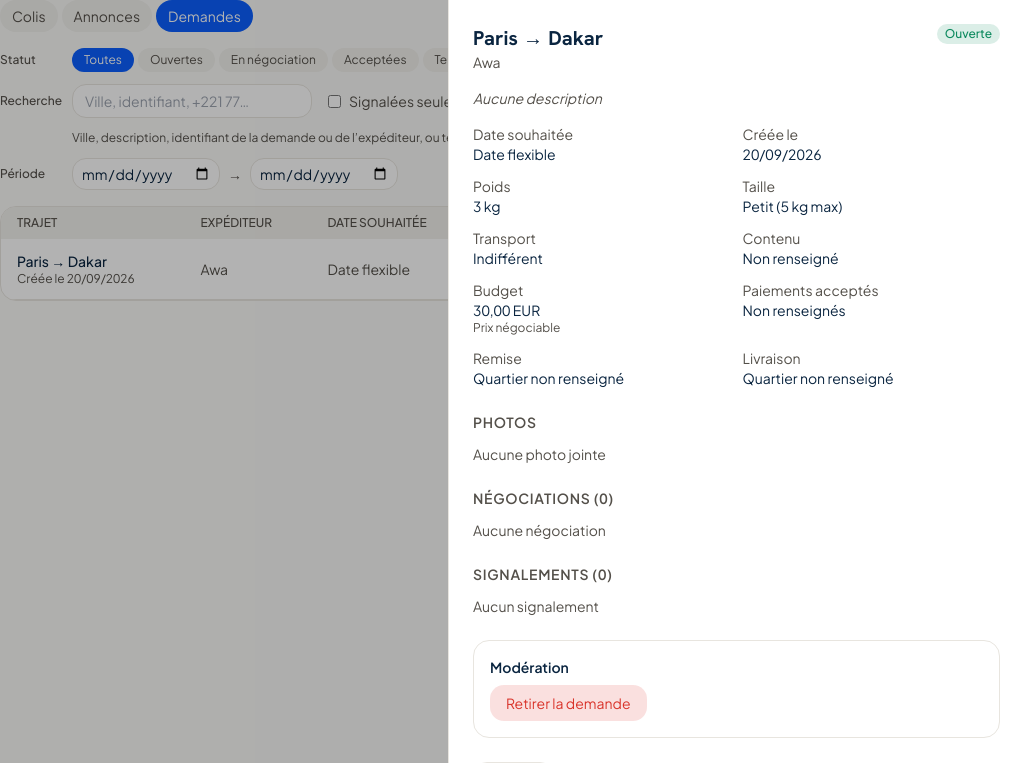
Test: /colis, onglet Demandes › un retrait réussi met à jour la ligne de la liste
Click the button with test id "pr-remove" at (568, 703), box 490,685 -> 646,721
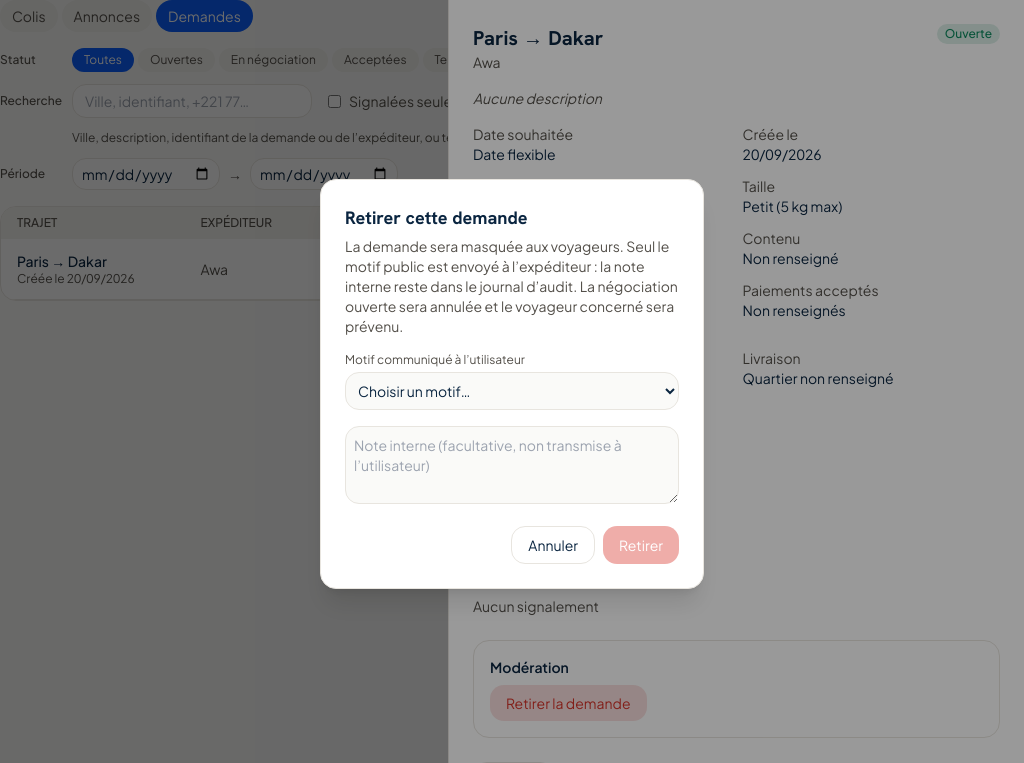
Select "Non conforme aux conditions d’utilisation" in the dropdown with test id "reason-choice" at (512, 391), box 345,372 -> 679,410
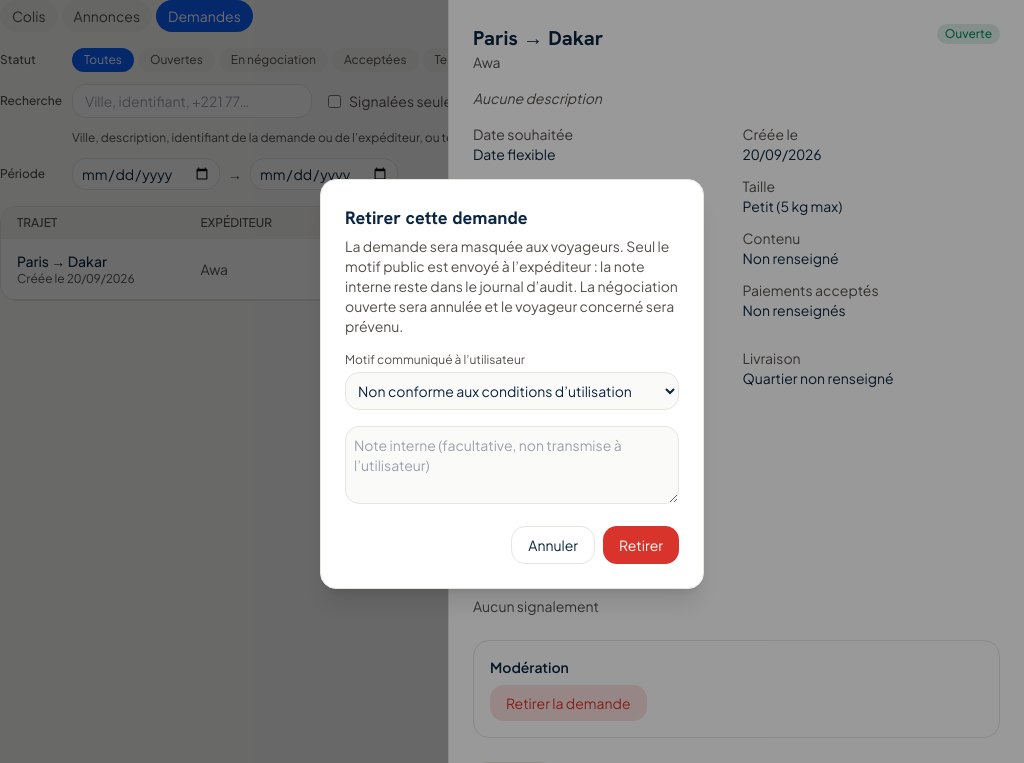
Click the button with test id "confirm" at (641, 545), box 603,526 -> 679,564
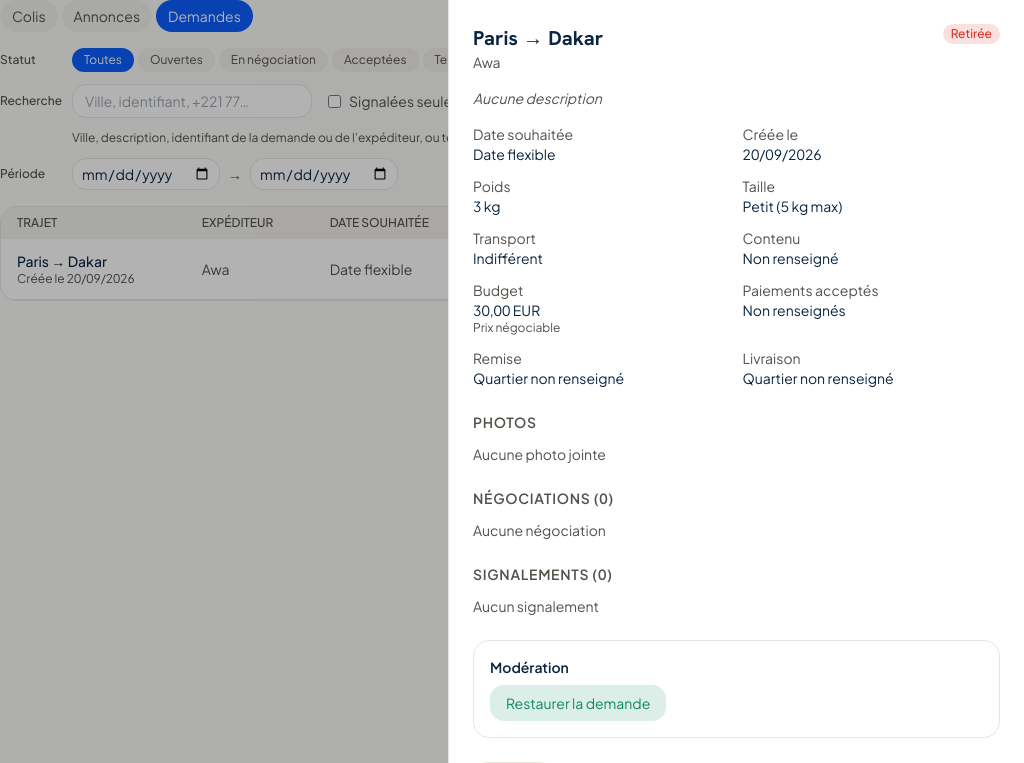
Expected: the button with test id "pr-row-0b5e2c3a-1111-4222-8333-444455556666" shows "Retirée", 1,239 -> 1023,300
Click the button with test id "pr-restore" at (578, 703), box 490,685 -> 666,721
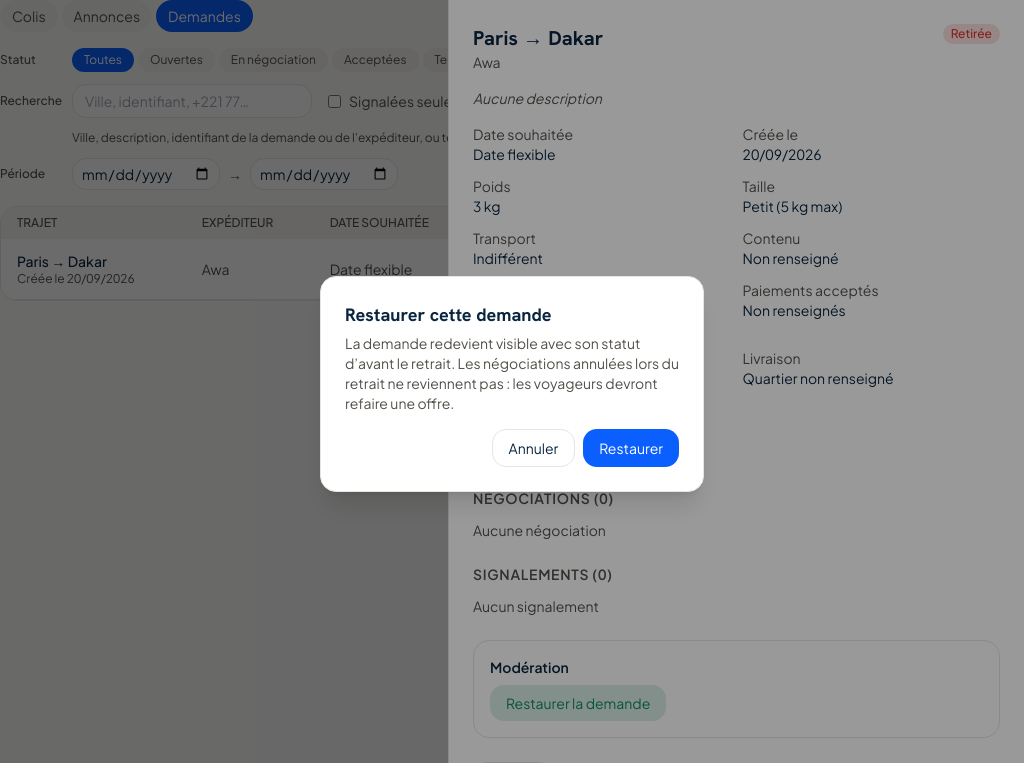
Click the button with test id "confirm" at (631, 448), box 583,429 -> 679,467
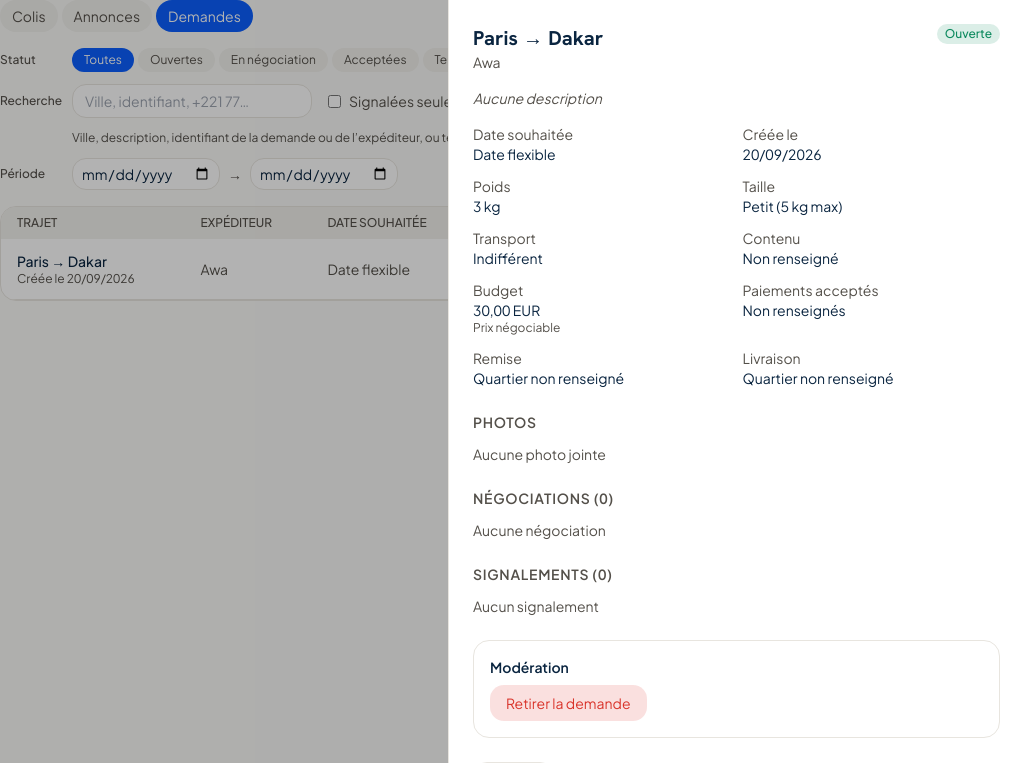
Expected: the button with test id "pr-row-0b5e2c3a-1111-4222-8333-444455556666" shows "Ouverte", 1,239 -> 1023,300
